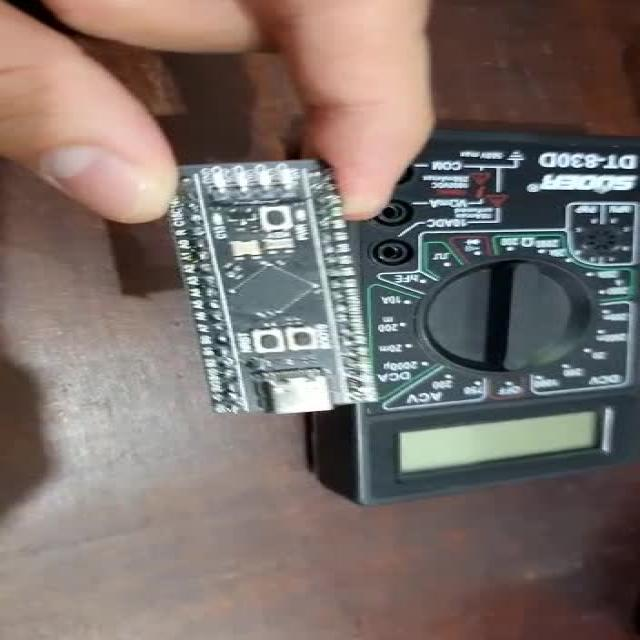multimeter: (375, 142, 640, 460)
stm32: (158, 164, 379, 420)
